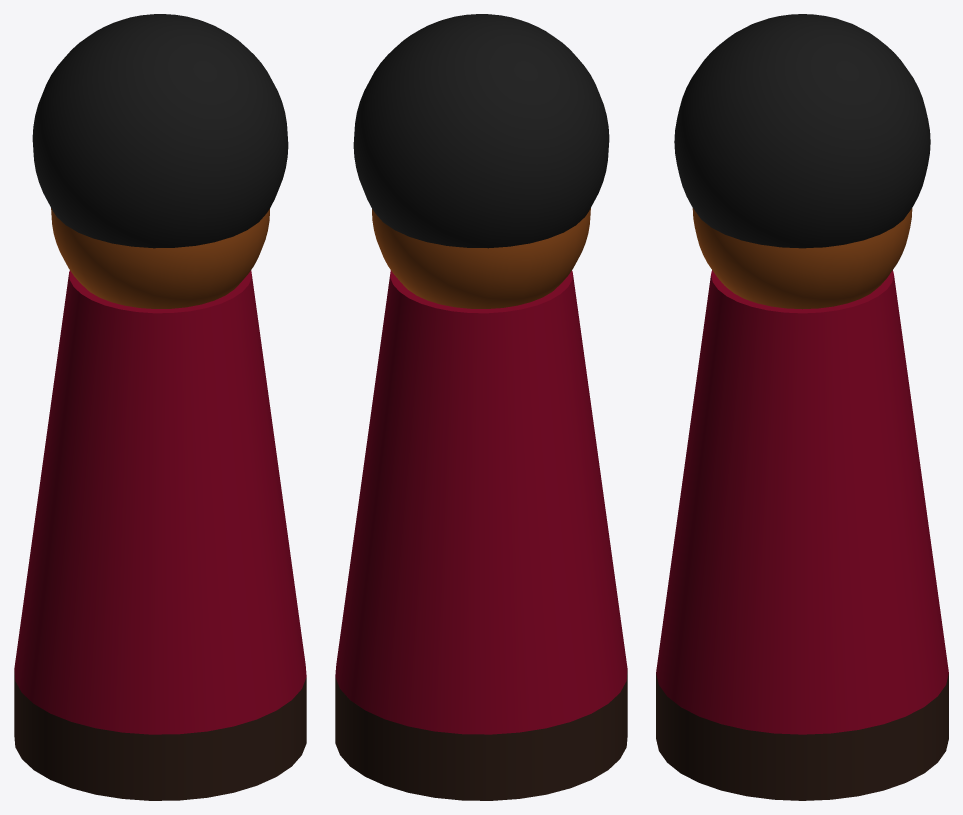
The model's file is african-girl.glb.
The picture shows the model from 3 angles, left to right: view 1: azimuth 30°, elevation 25°; view 2: azimuth 150°, elevation 25°; view 3: azimuth 270°, elevation 25°; orthographic projection.
Bounding box in the file's own units: 0.8002 × 2.15 × 0.8002.
